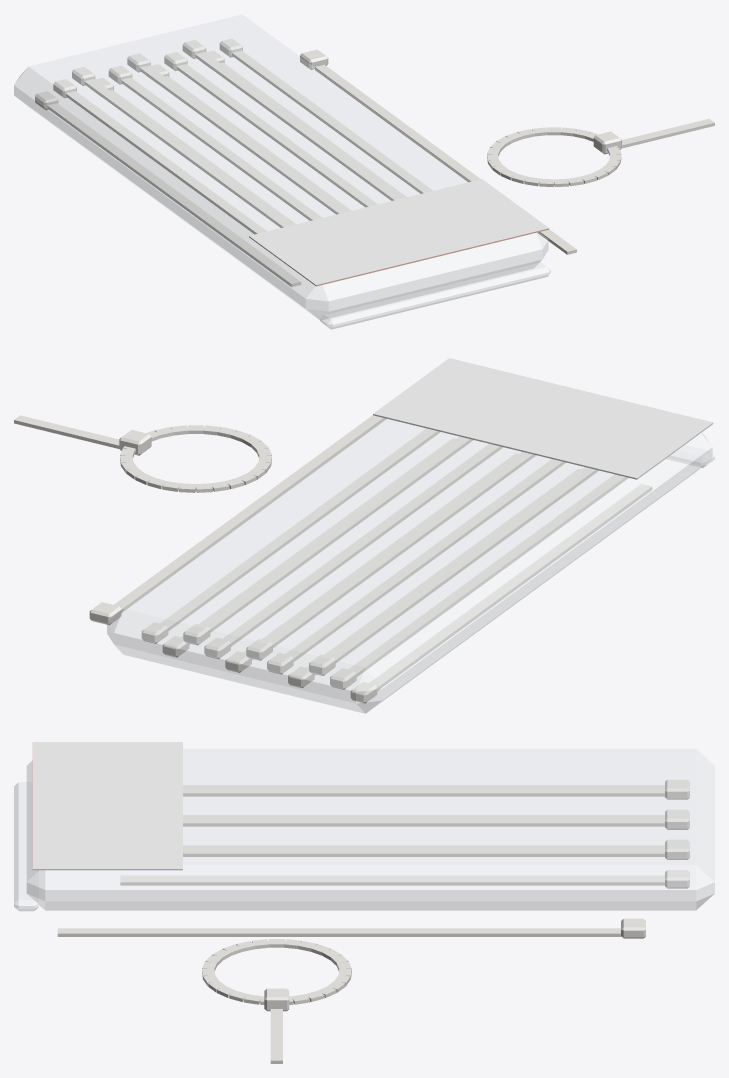
File: abracadeiras.glb
3 views of the same model, one above another, from view 1: azimuth 30°, elevation 25°; view 2: azimuth 150°, elevation 25°; view 3: azimuth 270°, elevation 25° (orthographic). The views are drawn at different scales.
Visible parts, largest first — view 1: abracadeiras_plastico_transp, abracadeiras_nylon_branco, abracadeiras_saco_abrac; view 2: abracadeiras_plastico_transp, abracadeiras_nylon_branco, abracadeiras_saco_abrac; view 3: abracadeiras_plastico_transp, abracadeiras_nylon_branco, abracadeiras_saco_abrac.
Part boxes in pixels (x1,y1,x2,y2): abracadeiras_plastico_transp: (14, 14, 550, 329); abracadeiras_nylon_branco: (35, 38, 714, 286); abracadeiras_saco_abrac: (249, 179, 549, 286); abracadeiras_plastico_transp: (107, 418, 714, 713); abracadeiras_nylon_branco: (14, 415, 652, 703); abracadeiras_saco_abrac: (373, 358, 713, 479); abracadeiras_plastico_transp: (14, 749, 714, 910); abracadeiras_nylon_branco: (57, 779, 689, 1063); abracadeiras_saco_abrac: (32, 742, 182, 870).
Bounding box in the file's own units: 0.21 × 0.0165 × 0.224.
3 materials, 1 textured.
